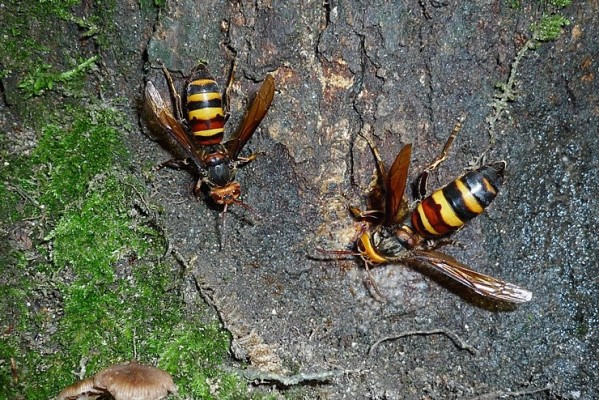asian_giant_hornet: (143, 64, 278, 210), (348, 158, 510, 269)
